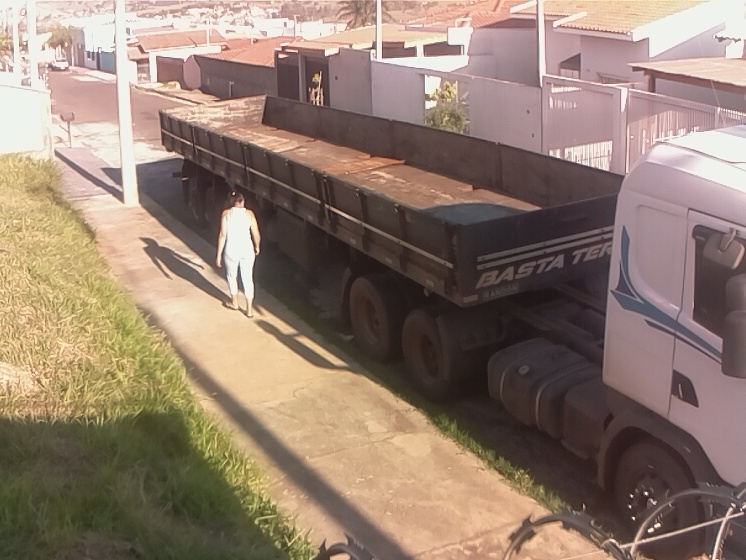person: (212, 188, 261, 322)
